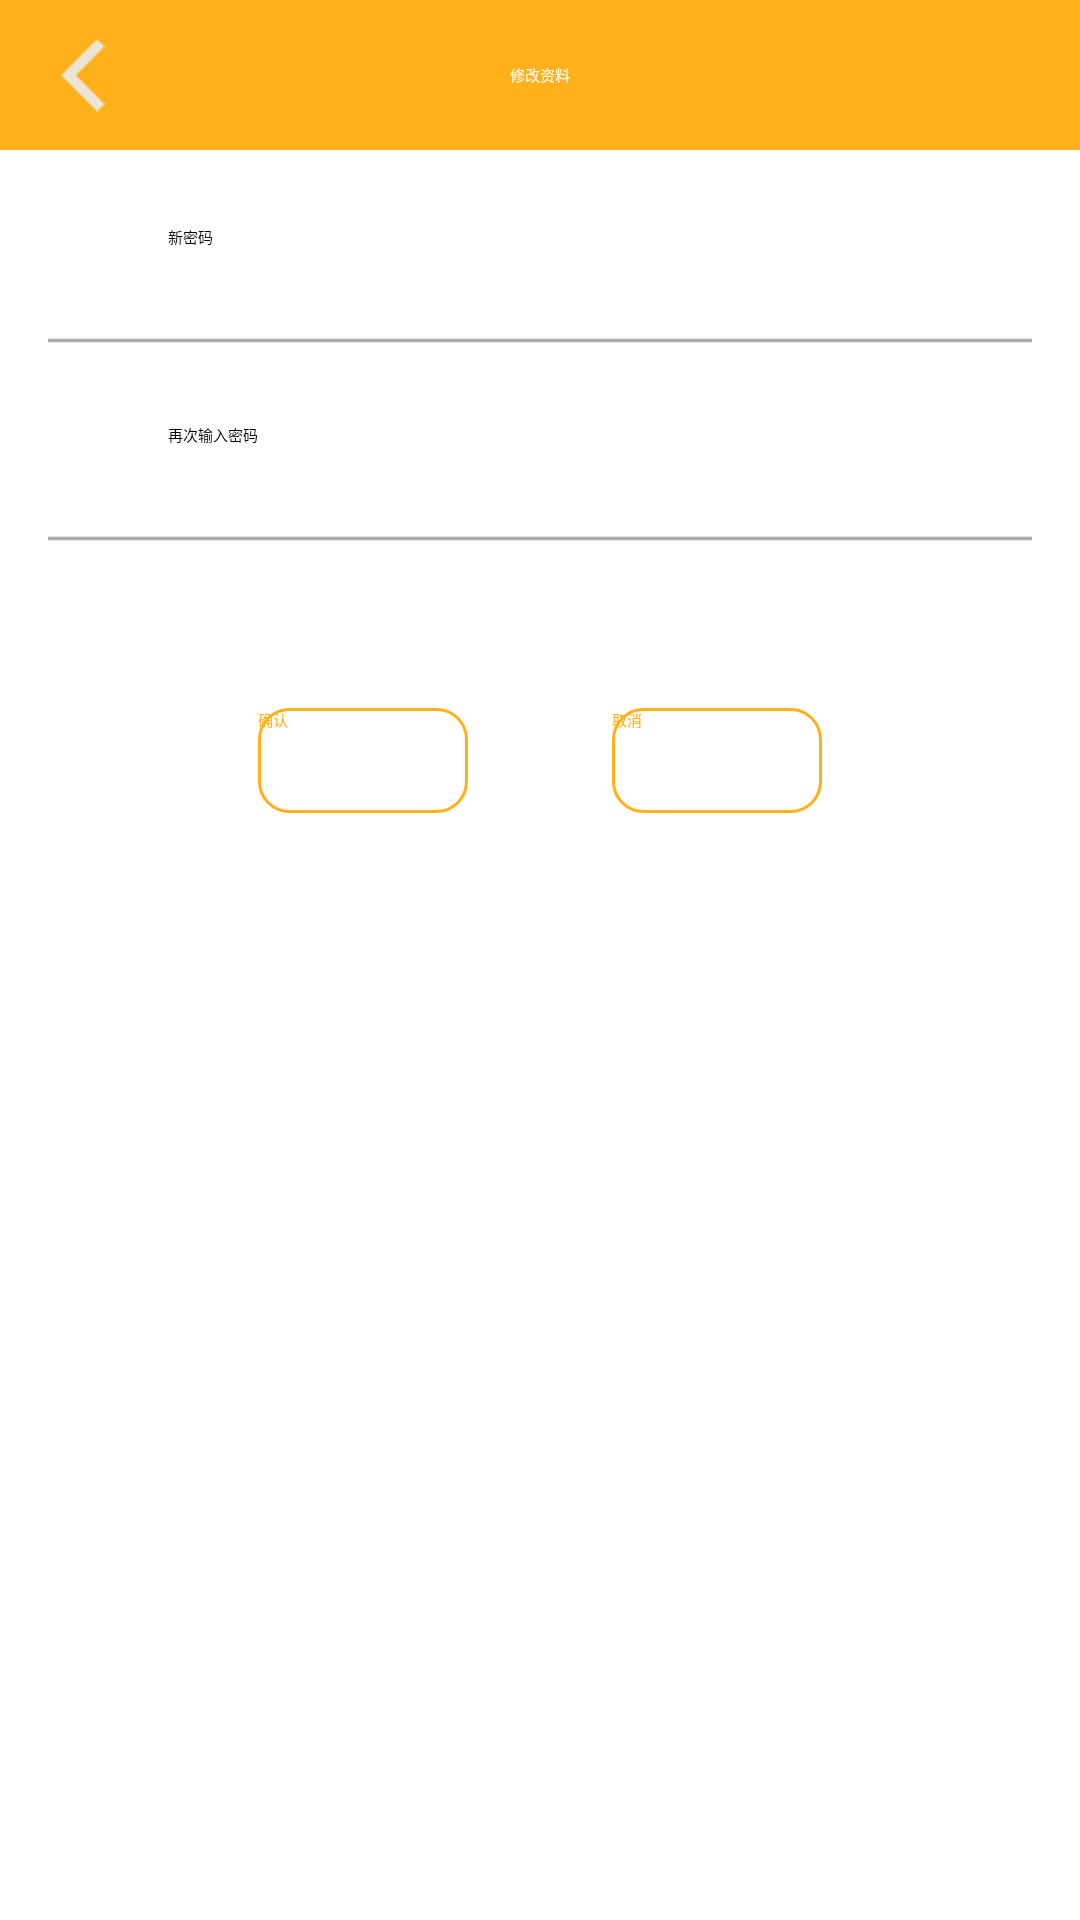

Named icons in this screenshot (1080*1920) and their bounding boxes, (x1, y1, x2, y2):
back: (61, 39, 105, 112)
